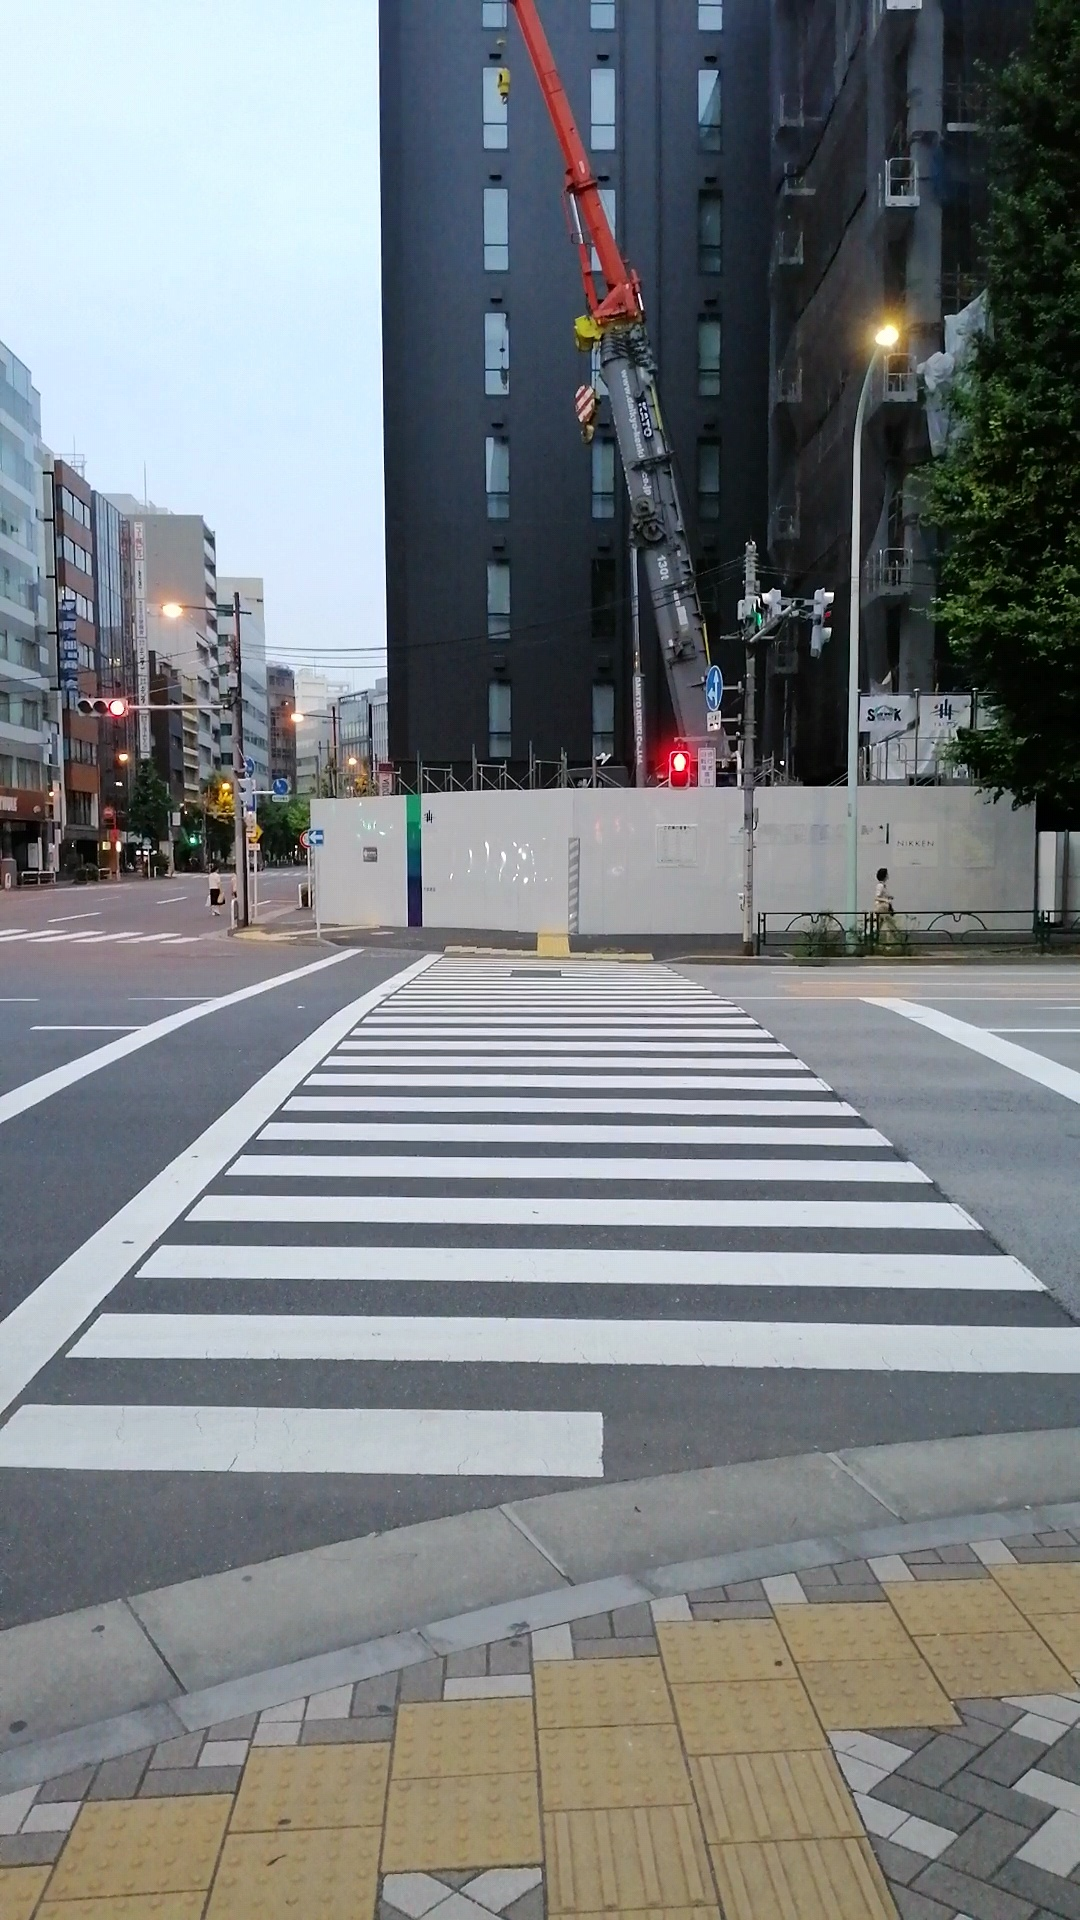red: (667, 748, 691, 789)
